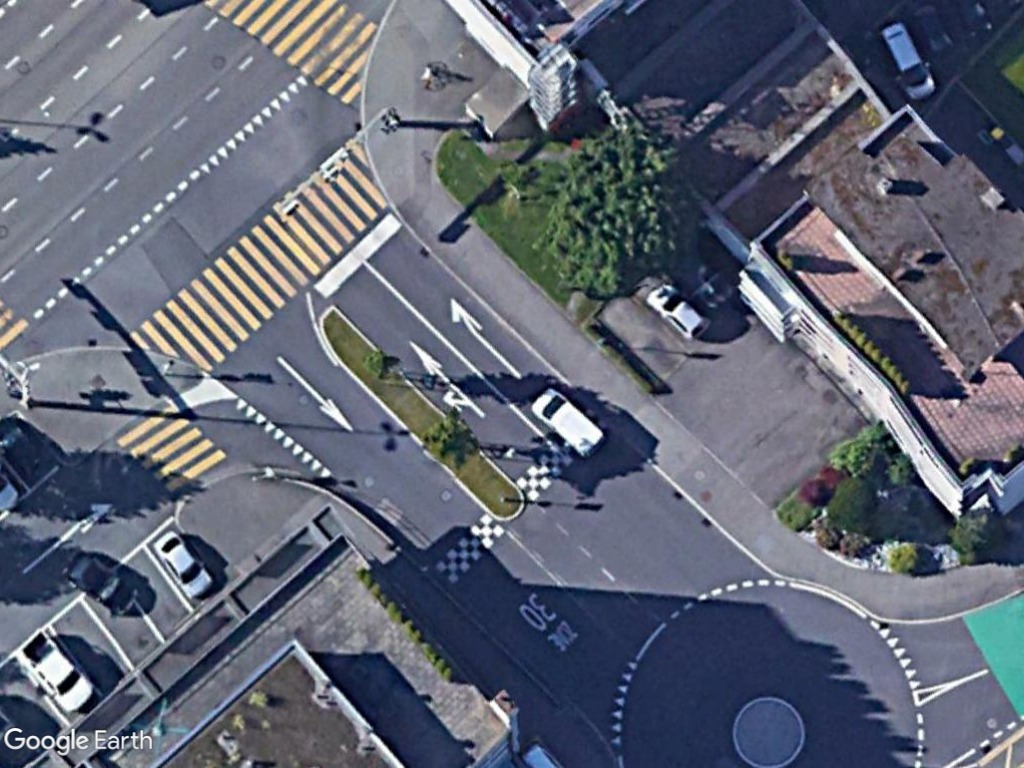car: (149, 528, 216, 601), (644, 279, 714, 344)
others: (17, 634, 96, 713)
van: (529, 384, 606, 459), (877, 20, 938, 102)
